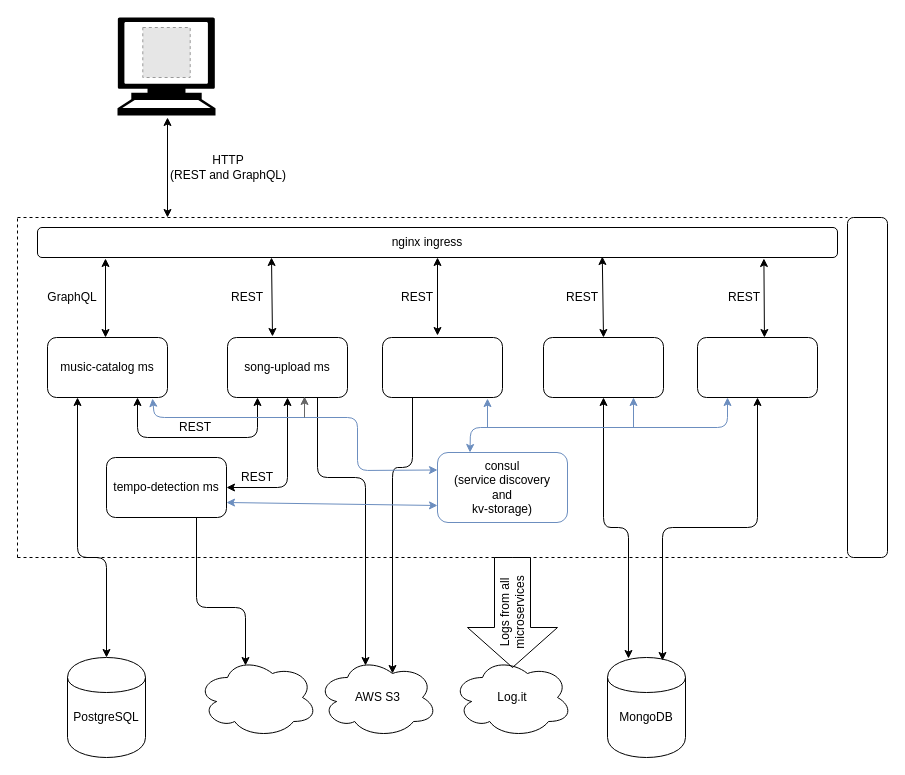
Some shapes in this 905 by 775 pixel diagram are drawn without their labels. Grey dashed boxes stand in for pictures. Here are the shapes that lost their labels. From the top down, the centre of each, then its label:
At point 442,367: "image-upload ms".
At point 603,367: "comments ms".
At point 757,367: "rating ms".
At point 867,387: "KUBERNETES (google cloud)".
At point 257,697: "RapidAPI".
